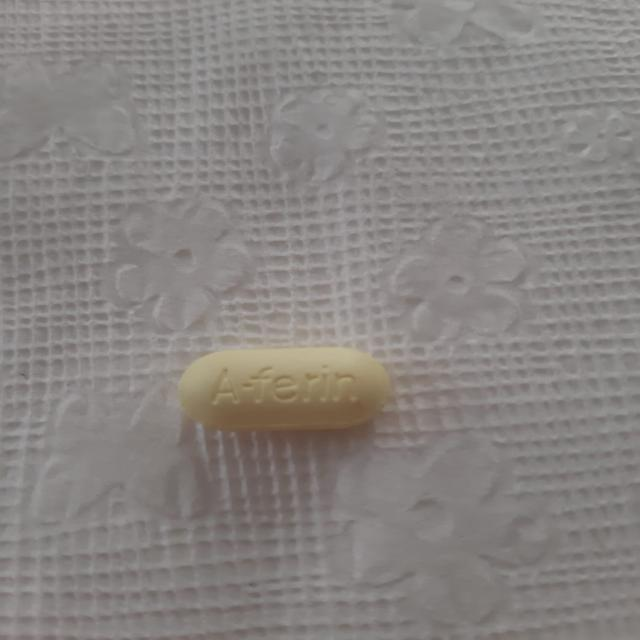pills: (161, 330, 406, 448)
